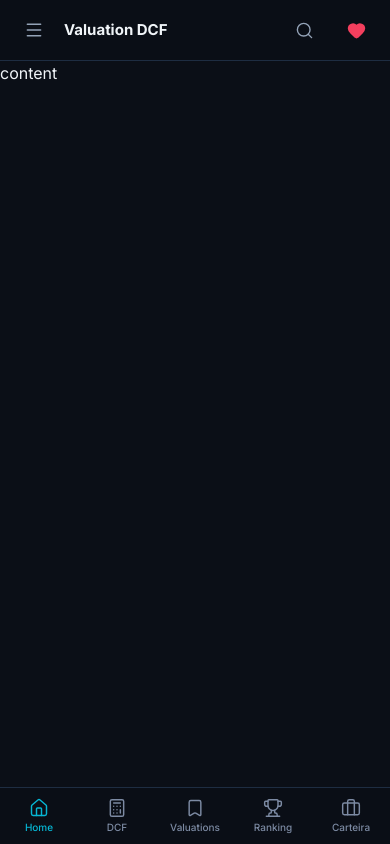
Test: Layout mobile drawer › fecha a gaveta ao navegar para outra rota
This screenshot has width=390, height=844.
Click the button named "Abrir menu".
click(34, 30)  # box 12,8 -> 56,52
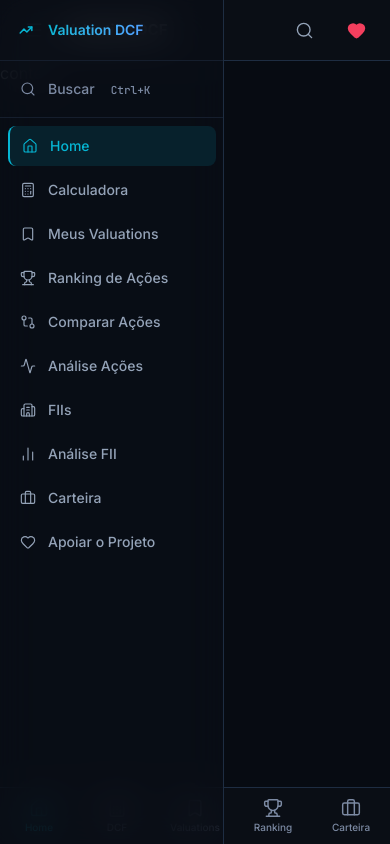
Check: the element with test id "sidebar-scrim" is shown
Click the link "Calculadora".
click(74, 190)  # box 20,181 -> 128,198
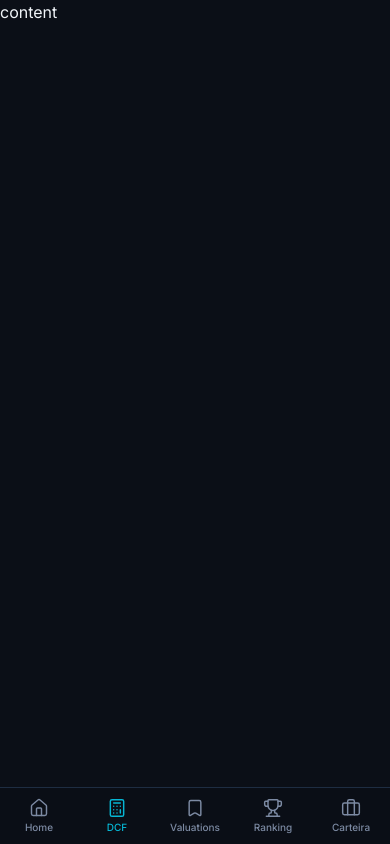
Check: the element with test id "sidebar-scrim" is gone
